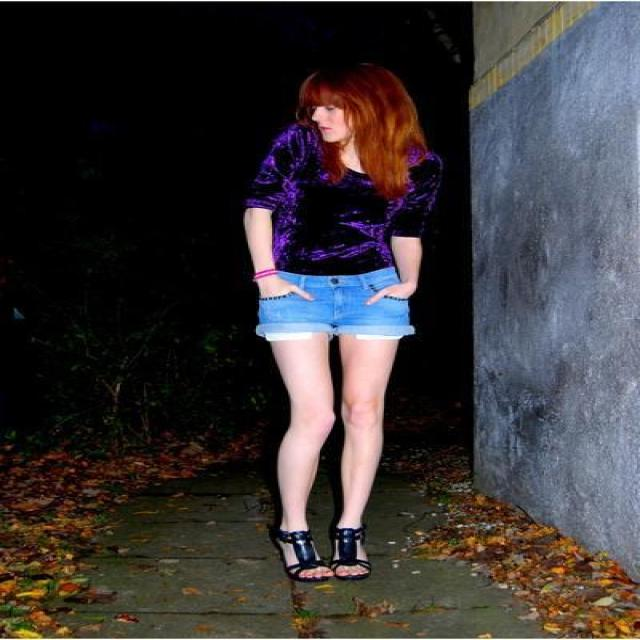shirt: (244, 119, 442, 278)
shoe: (280, 525, 366, 583)
shorts: (256, 269, 413, 370)
